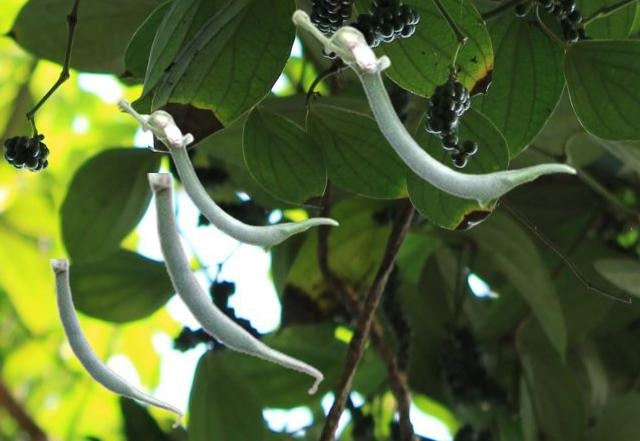french_bean: (291, 8, 576, 208), (147, 173, 323, 395), (116, 96, 338, 252), (49, 259, 183, 428)
